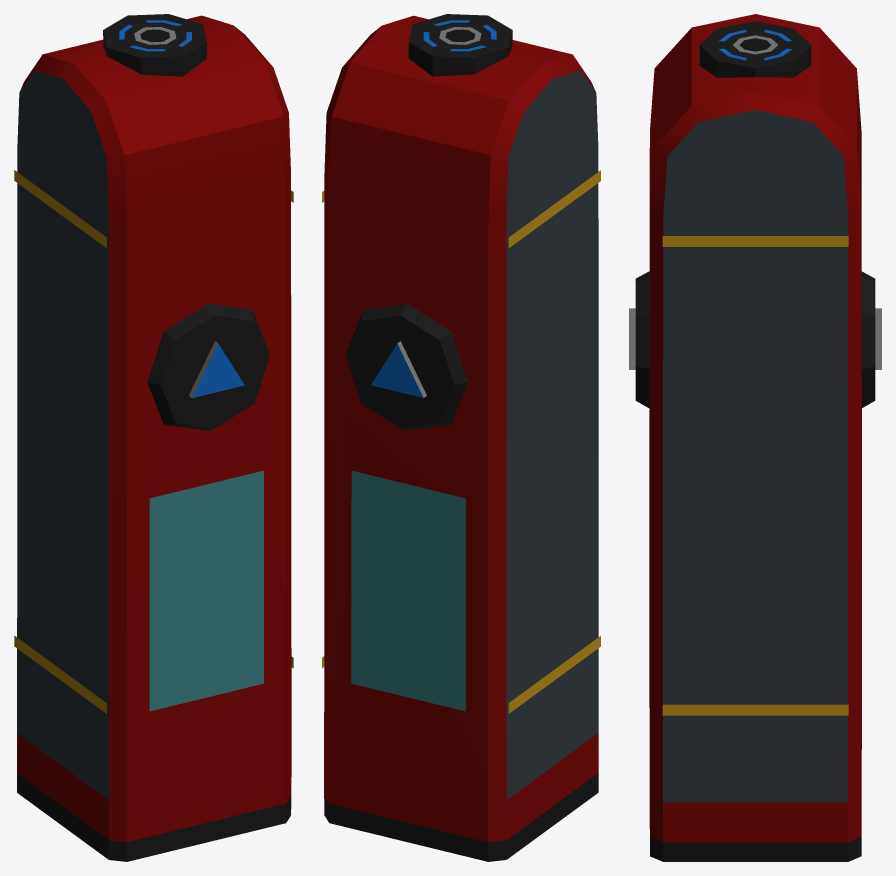
The model's file is W_O_Fireplug_001_L1.fbx.
The picture shows the model from 3 angles, left to right: view 1: azimuth 30°, elevation 25°; view 2: azimuth 150°, elevation 25°; view 3: azimuth 270°, elevation 25°; orthographic projection.
Parts seen in each view (by area): view 1: W_O_Fireplug_001_L1; view 2: W_O_Fireplug_001_L1; view 3: W_O_Fireplug_001_L1.
Boxes of the visible parts, x1,y1,x2,y2 form: W_O_Fireplug_001_L1: (14, 14, 293, 861); W_O_Fireplug_001_L1: (322, 14, 600, 861); W_O_Fireplug_001_L1: (629, 14, 881, 861).
Bounding box in the file's own units: 0.1592 × 0.6261 × 0.1857.
